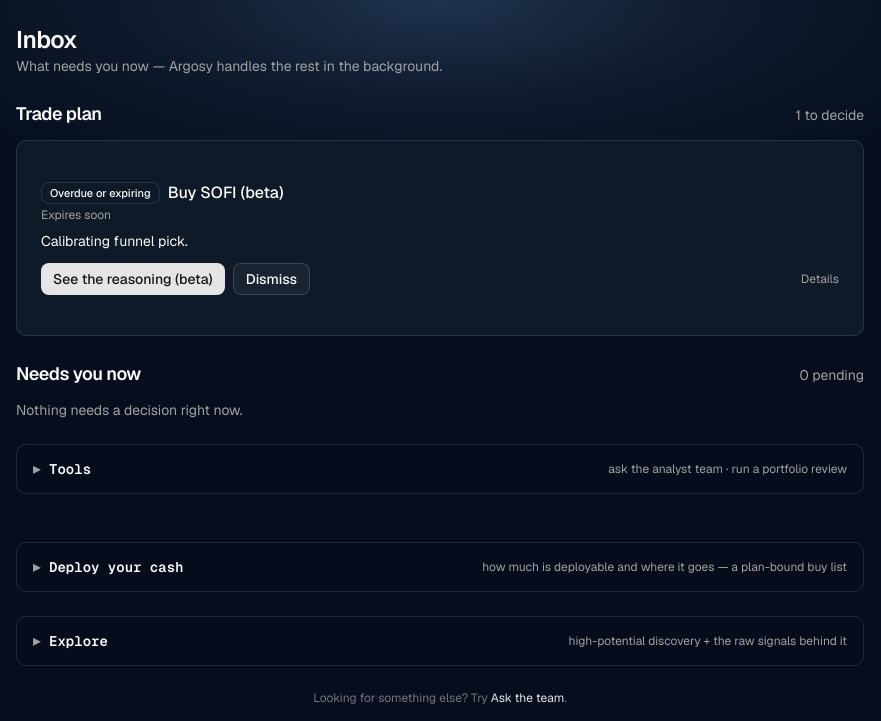
Test: inbox 'Dismiss' on a beta funnel trade › rejects the proposal and drops the card on refresh
The width and height of the screenshot is (881, 721).
Step 1. Click the button "Dismiss" → (271, 279), box [233, 263, 310, 295]
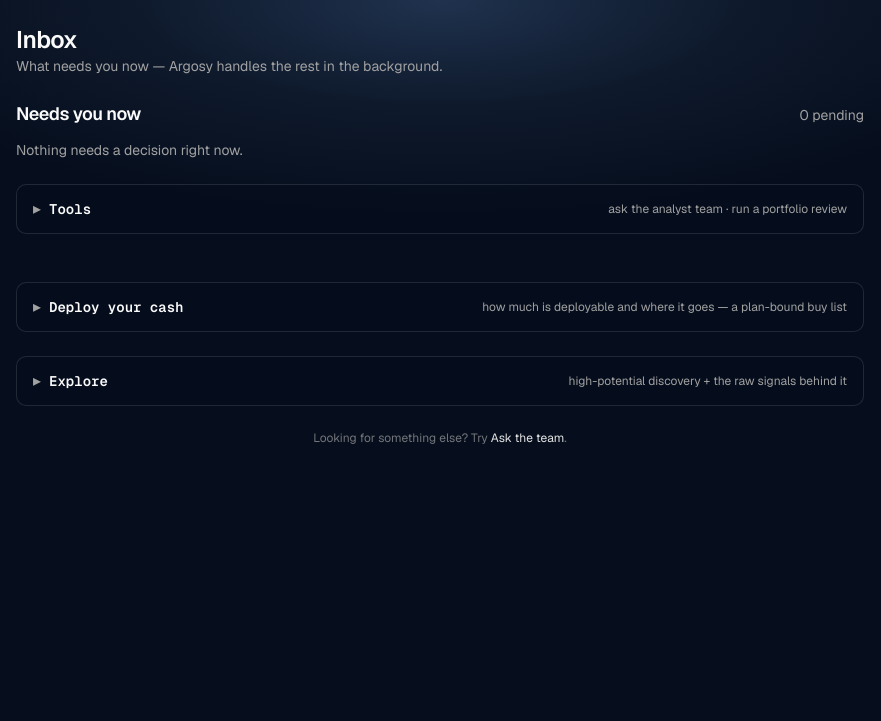
Check: the heading "Buy SOFI (beta)" is gone
